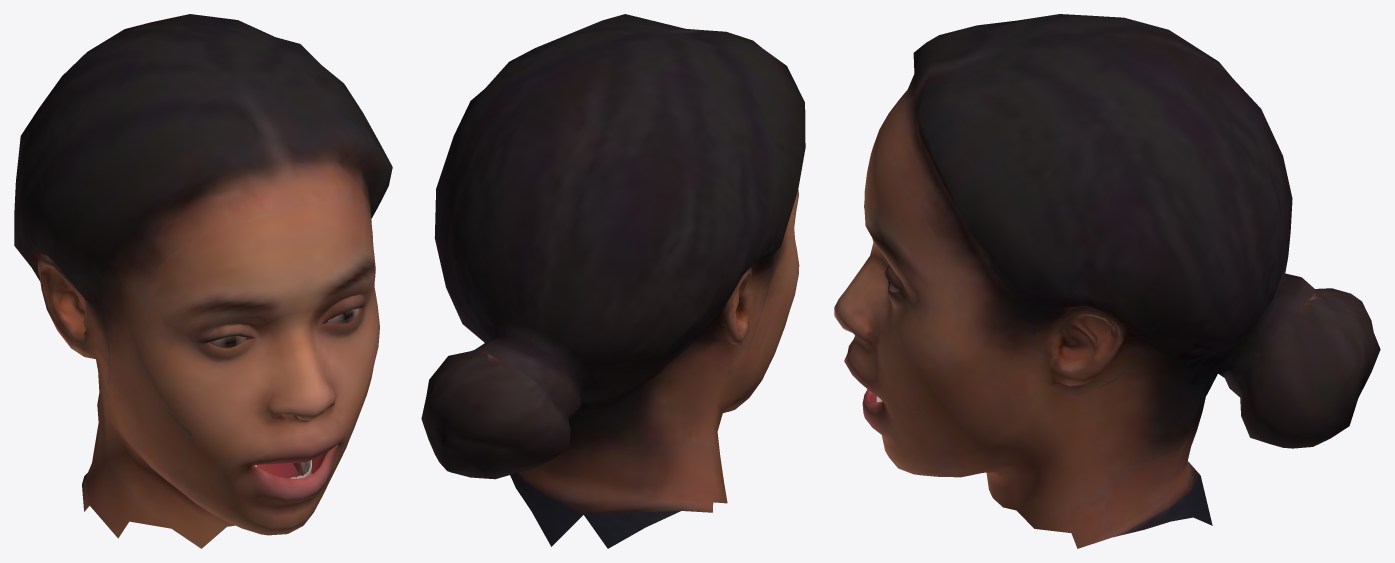
Rendered from ProfesorHead.obj.
The picture shows the model from 3 angles, left to right: view 1: azimuth 30°, elevation 25°; view 2: azimuth 150°, elevation 25°; view 3: azimuth 270°, elevation 25°; orthographic projection. The views are drawn at different scales.
Visible parts, largest first — view 1: ProfesorHead; view 2: ProfesorHead; view 3: ProfesorHead.
Boxes of the visible parts, x1,y1,x2,y2 form: ProfesorHead: (14, 14, 392, 548); ProfesorHead: (421, 14, 805, 548); ProfesorHead: (834, 14, 1380, 548).
Size of the model in its own units: 17.76 by 25.58 by 26.01.
1 material, 1 textured.
